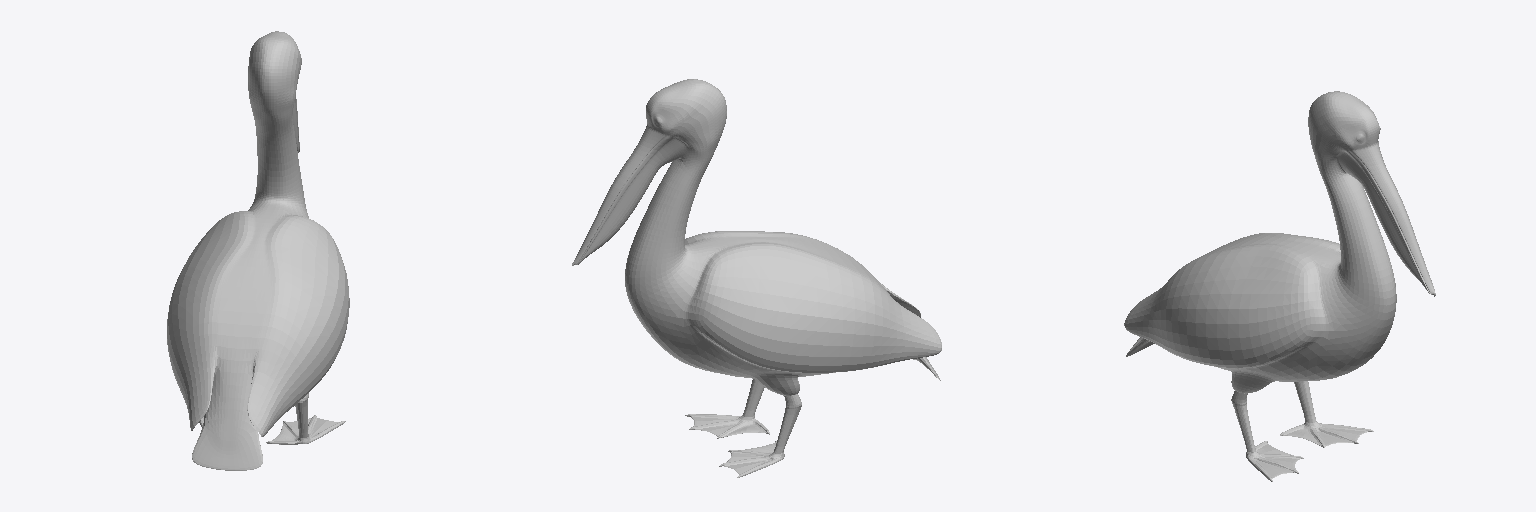
File: pelicano2.obj
The picture shows the model from 3 angles: view 1: azimuth 30°, elevation 25°; view 2: azimuth 150°, elevation 25°; view 3: azimuth 270°, elevation 25°; orthographic projection.
Parts seen in each view (by area): view 1: pelicano; view 2: pelicano; view 3: pelicano.
Boxes of the visible parts, x1=… form: pelicano: x1=167, y1=31, x2=349, y2=470; pelicano: x1=572, y1=79, x2=941, y2=477; pelicano: x1=1124, y1=91, x2=1435, y2=481.
Bounding box in the file's own units: 3.33 × 4.94 × 3.78.